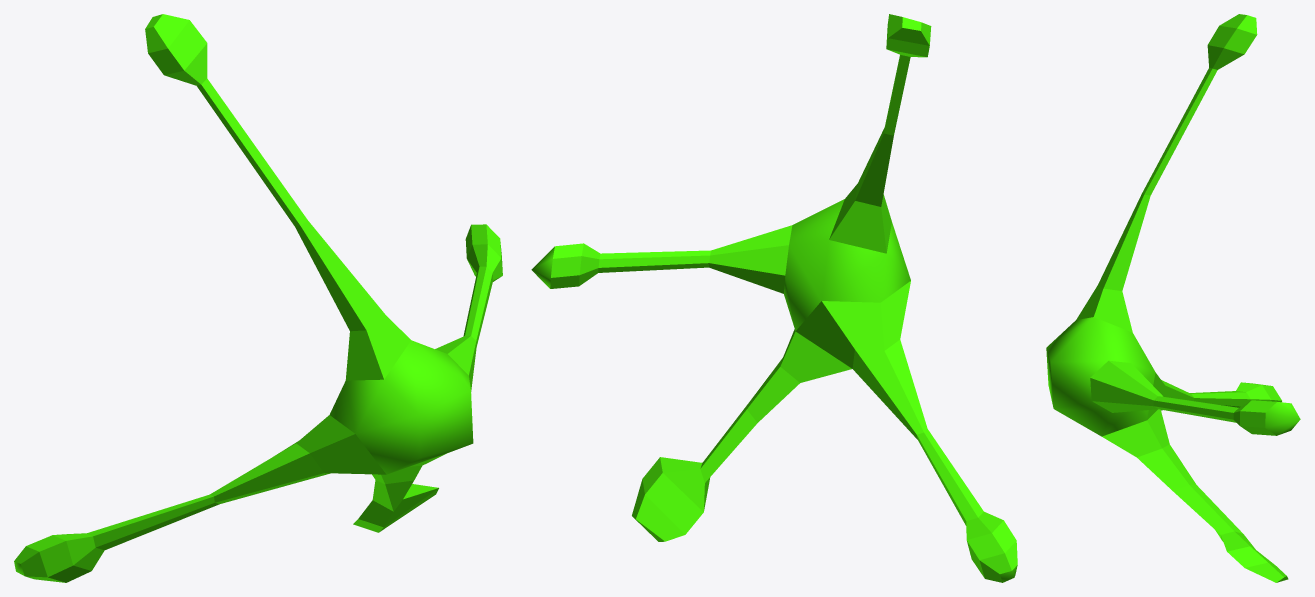
Rendered from web_green_snot.FBX.
3 renders of one model, left to right at view 1: azimuth 30°, elevation 25°; view 2: azimuth 150°, elevation 25°; view 3: azimuth 270°, elevation 25°, orthographic. The views are drawn at different scales.
Visible parts, largest first — view 1: Sphere014; view 2: Sphere014; view 3: Sphere014.
Boxes of the visible parts, box(x1,y1,x2,y2) form: Sphere014: box(14, 14, 502, 582); Sphere014: box(531, 14, 1017, 582); Sphere014: box(1046, 14, 1300, 582).
Bounding box in the file's own units: 15.74 × 18.06 × 8.79.
